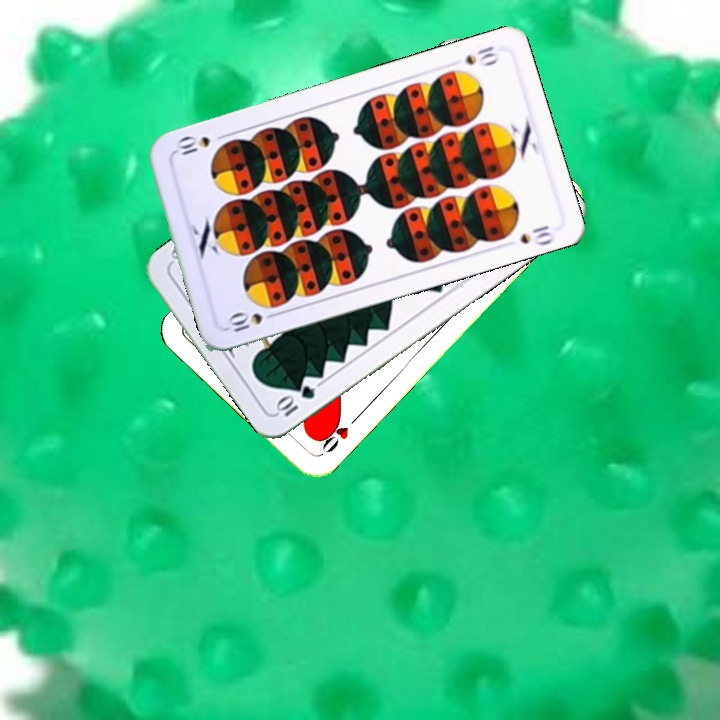G10: (270, 381, 318, 419)
HO: (314, 411, 362, 458)
S10: (223, 308, 281, 336), (461, 42, 502, 69)
